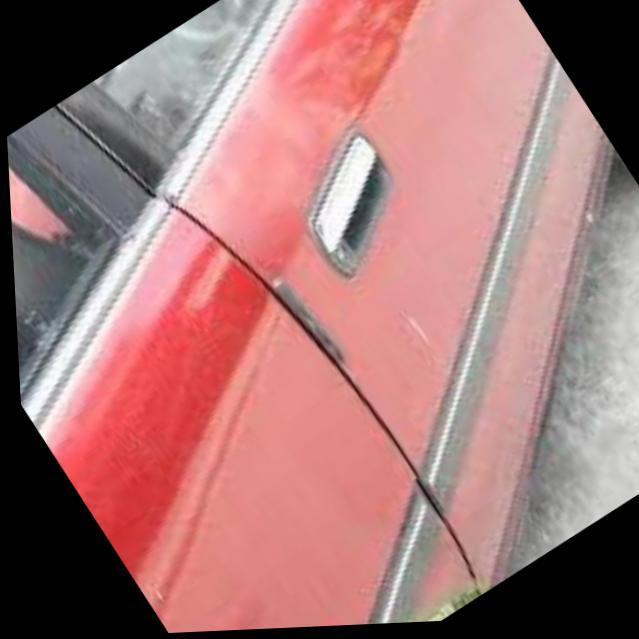rub: (176, 49, 334, 267)
